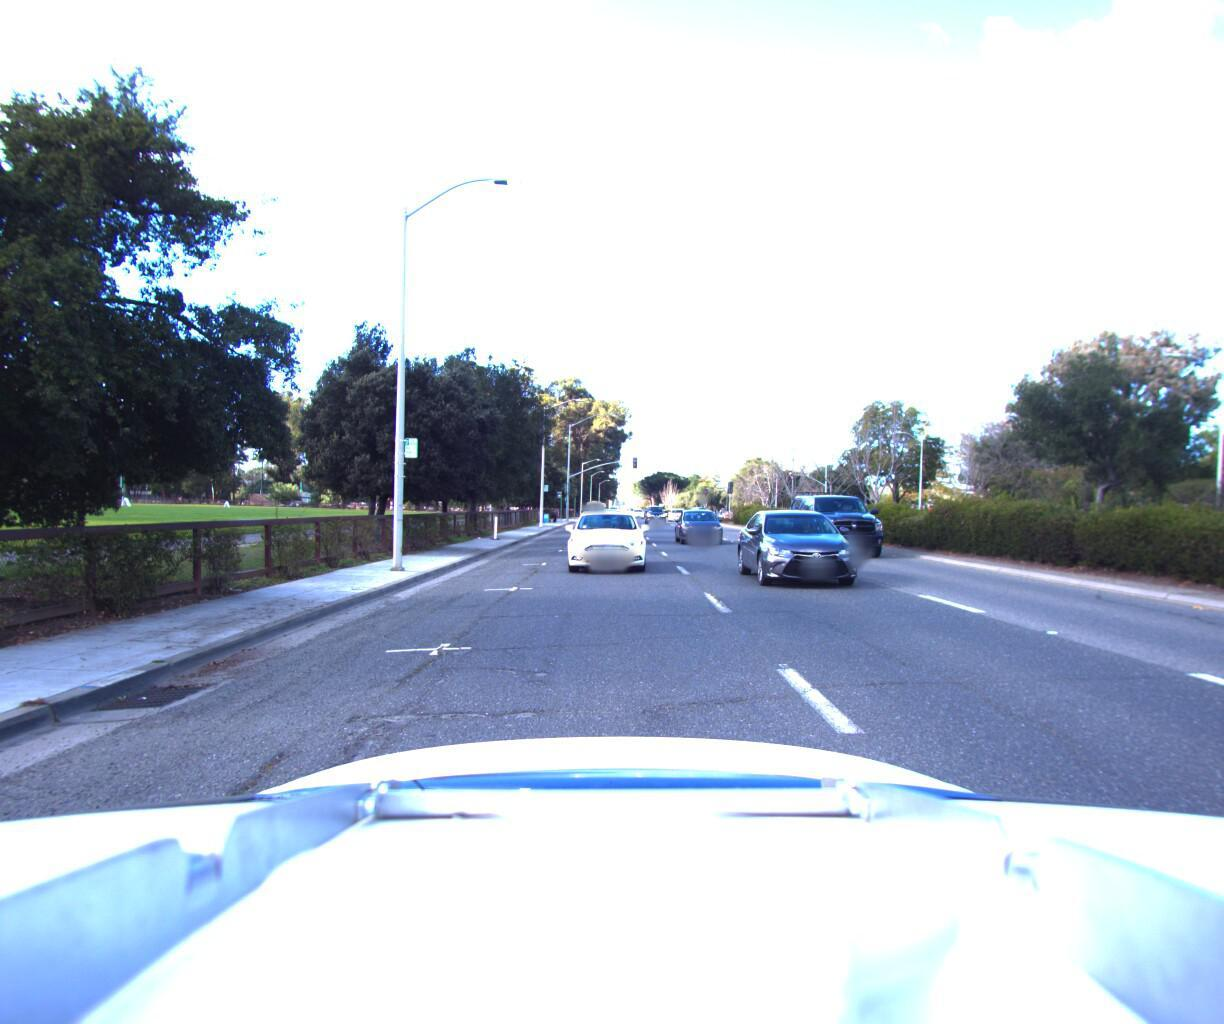car: (740, 495, 889, 593), (787, 483, 900, 559), (560, 501, 657, 573), (673, 504, 734, 543), (644, 503, 668, 521), (663, 503, 686, 518)
